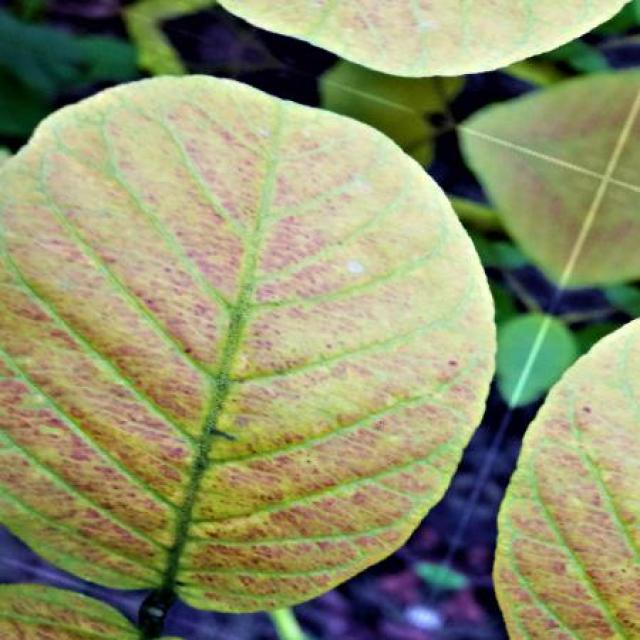Red Rust: (0, 76, 492, 611), (494, 320, 640, 640), (218, 1, 628, 77)
